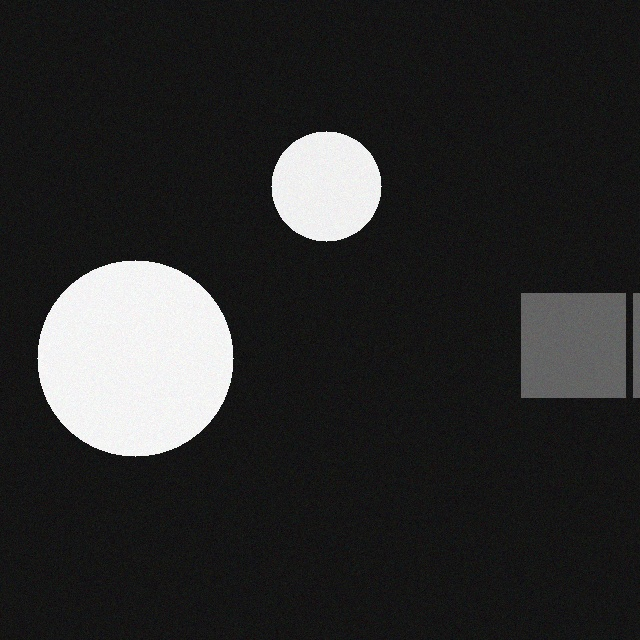circle: (47, 257, 243, 453), (281, 128, 391, 238)
square: (531, 290, 635, 394)
